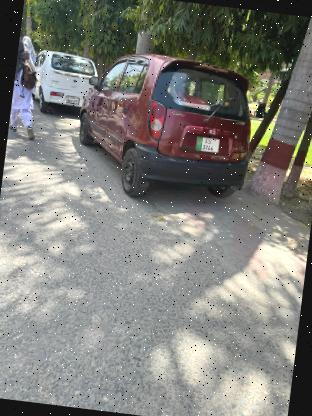car: (69, 38, 270, 215), (23, 43, 108, 122)
